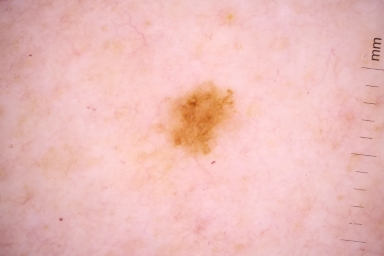melanoma: (172, 81, 239, 153)
